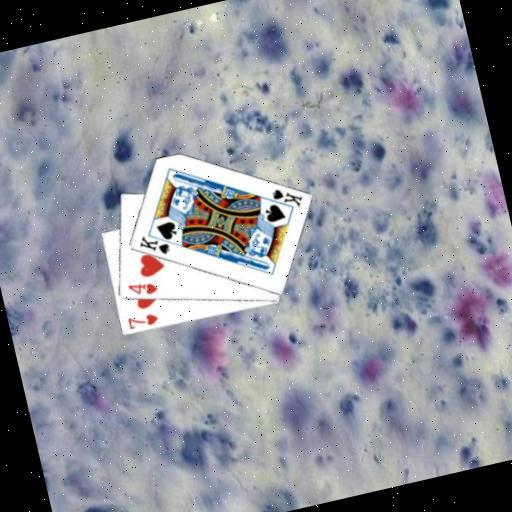4H: (124, 276, 160, 301)
7H: (123, 309, 161, 332)
KS: (262, 181, 306, 216), (134, 228, 173, 262)
